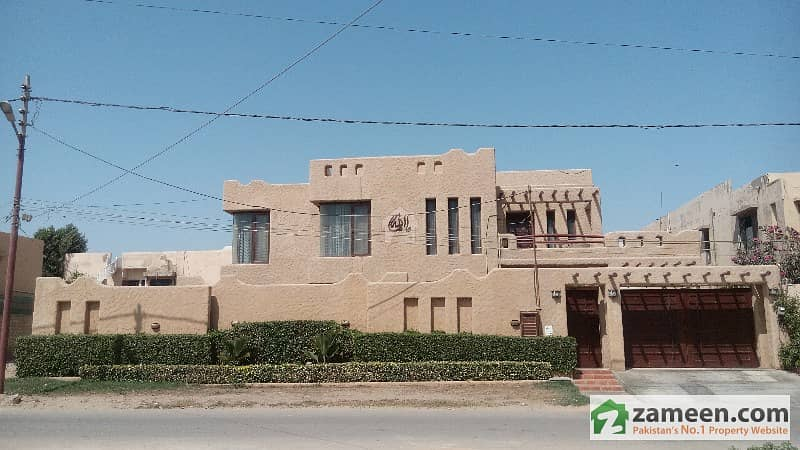Mud House: (13, 129, 800, 376)
